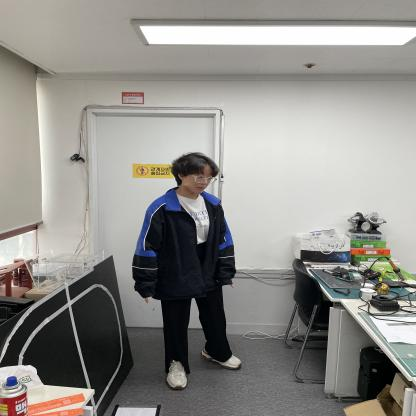normal: (131, 150, 241, 392)
